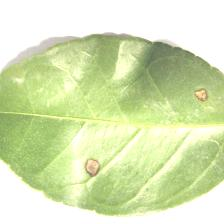canker: (79, 82, 212, 190)
